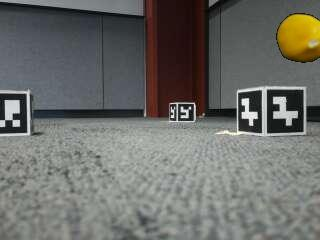lemon: (278, 15, 320, 63)
